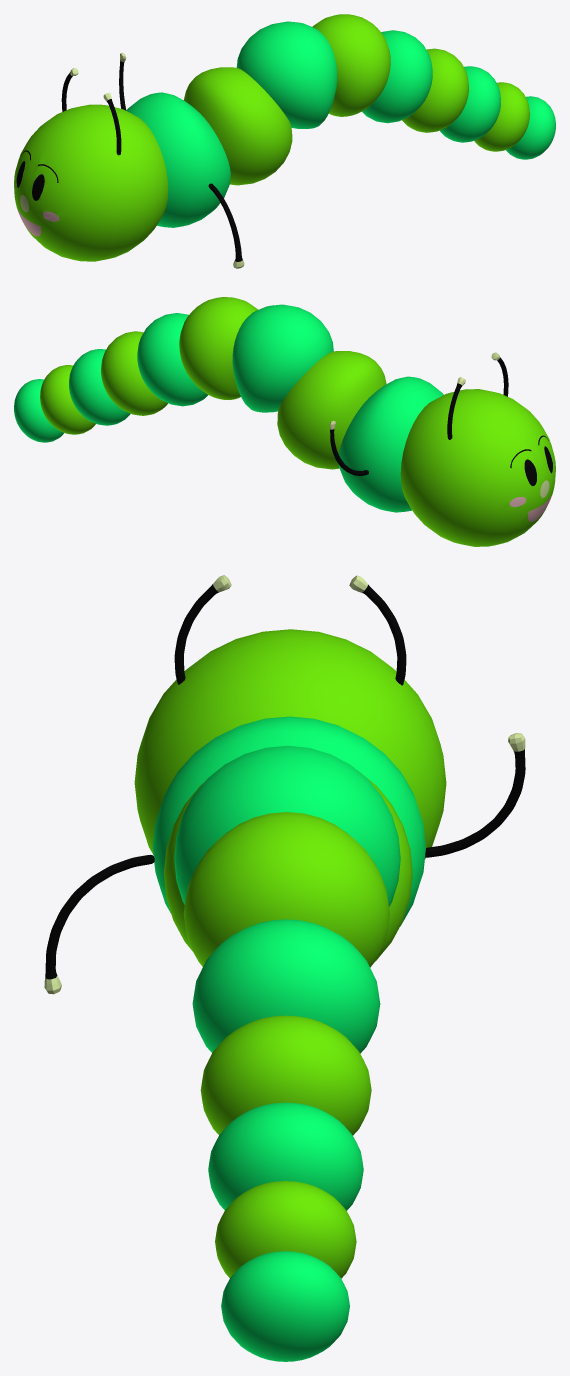
File: 芋虫のコピー.fbx
The picture shows the model from 3 angles, top to bottom: view 1: azimuth 30°, elevation 25°; view 2: azimuth 150°, elevation 25°; view 3: azimuth 270°, elevation 25°; orthographic projection. The views are drawn at different scales.
Visible parts, largest first — view 1: 球.003; view 2: 球.003; view 3: 球.003.
Part boxes in pixels (x1,y1,x2,y2): 球.003: (14,14,555,268); 球.003: (14,297,555,546); 球.003: (44,575,525,1361).
Bounding box in the file's own units: 564 × 192 × 224.
